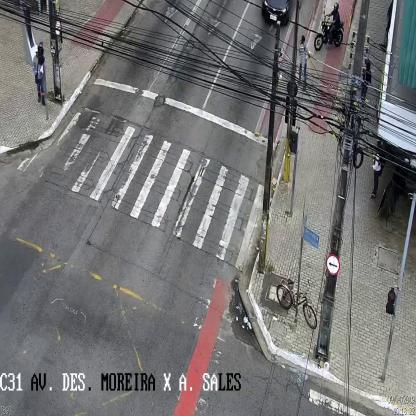bicycle: (276, 277, 316, 331)
car: (263, 0, 293, 25)
motorbike: (314, 2, 344, 49)
person: (33, 41, 46, 106), (370, 141, 383, 200), (298, 35, 310, 84)
